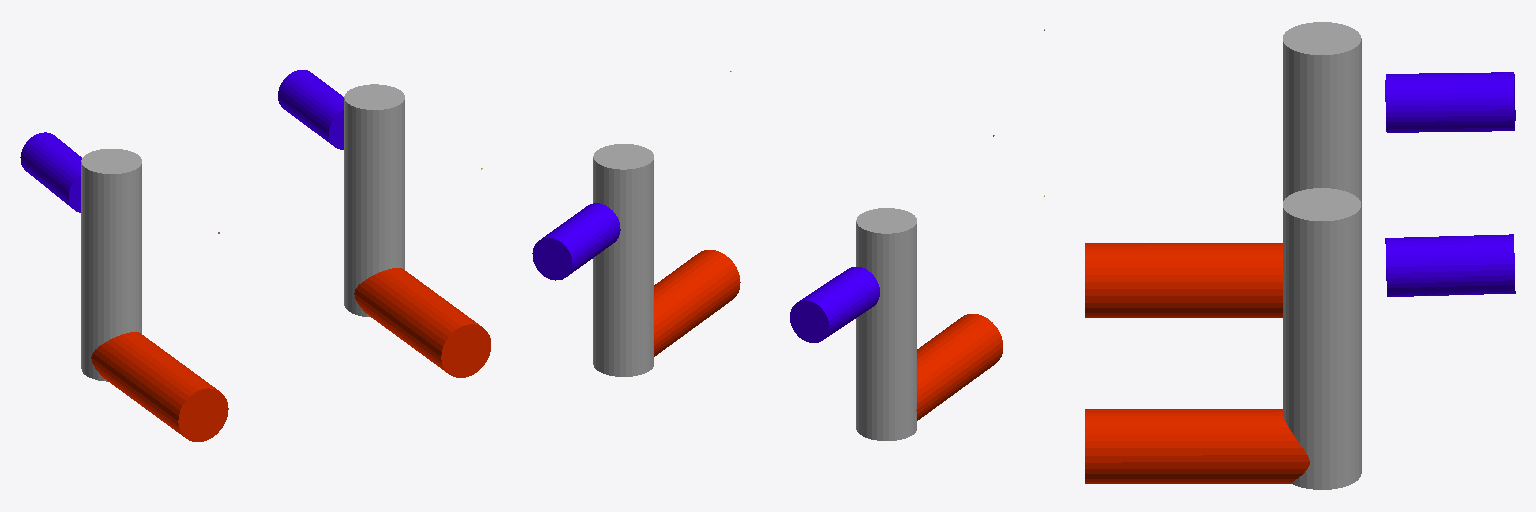
robot.urdf — humanoid:
<?xml version="1.0"?>
<robot xmlns:xacro="http://www.ros.org/wiki/xacro" name="humanoid">

    <!-- MATERIALS -->
    <material name="grey">
        <color rgba="0.7 0.7 0.7 1"/>
    </material>

    <material name="purple">
        <color rgba="0.3 0 1 1"/>
    </material>

    <material name="orange">
        <color rgba="0.9 0.2 0.0 1"/>
    </material>

    

    <!--word link or base link-->
    <link name="base_link"> 
        <origin xyz="0.0 0.0 0.0" rpy="0.0 0.0 0.0"/>
    </link>



    <!-- BODY -->
    <link name="body_link">
        <visual>
            <geometry>
                <mesh filename="file://[local-path]/Humanoid_UMass/Meshes/Humanoid_body.dae" scale="10 10 10"/>
            </geometry>
            <origin xyz="0 0 0" rpy="0 0 0"/>
        </visual>
    </link>

    <joint name="base_body_joint" type="fixed">
        <parent link="base_link"/>
        <child link="body_link"/>
        <origin xyz="0.0 0.0 0.0" rpy="0.0 0.0 0.0"/>
    </joint>



    <!-- RIGHT SHOULDER -->

    <link name="right_shoulder_link">
        <visual>
            <geometry>
                <cylinder radius="0.3" length="1.3"/>
            </geometry> 
            <material name="purple"/>
            <origin xyz="0.316 -0.2 -0.223" rpy="1.6 -0.641 0"/>
        </visual>
    </link>

    <joint name="body_rshoulder_joint" type="continuous">
        <axis xyz="-2.2 0 -1.6"/>
        <parent link="body_link"/>
        <child link="right_shoulder_link"/>
        <origin xyz="1.63905504 0 1.98591568" rpy="0 0 0"/>
    </joint>




    <!-- LEFT SHOULDER -->
    <link name="left_shoulder_link">
        <visual>
            <geometry>
                <cylinder radius="0.3" length="1.3"/>
            </geometry> 
            <material name="purple"/>
            <origin xyz="-0.316 -0.2 -0.223" rpy="1.6 0.641 0"/>
        </visual>
    </link>

    <joint name="body_lshoulder_joint" type="continuous">
        <axis xyz="-2.2 0 1.6"/>
        <parent link="body_link"/>
        <child link="left_shoulder_link"/>
        <origin xyz="-1.63905504 0 1.98591568" rpy="0.0 0.0 0.0"/>
    </joint>



    <!-- RIGHT UPPER ARM-->
    <link name="right_upper_arm_link">
        <visual>
            <geometry>
                <cylinder radius="0.4" length="3"/>
            </geometry>
            <material name="grey"/>
            <origin xyz="0.0 0.0 -0.8" rpy="0.0 0.0 0.0"/>
        </visual>
    </link>

    <joint name="r_uarm_shoulder_joint" type="revolute">
        <axis xyz="0.0 1 0.0"/>
        <limit lower="0" upper="-1.57" effort="100.0" velocity="10.0"/>
        <parent link="right_shoulder_link"/>
        <child link="right_upper_arm_link"/>
        <origin xyz="0.35 -1.5 -0.225 " rpy="0.0 0.0 0.0"/>
    </joint>



    <!-- LEFT UPPER ARM-->
    <link name="left_upper_arm_link">
        <visual>
            <geometry>
                <cylinder radius="0.4" length="3"/>
            </geometry>
            <material name="grey"/>
            <origin xyz="0.0 0.0 -0.8" rpy="0.0 0.0 0.0"/>
        </visual>
    </link>

    <joint name="l_uarm_shoulder_joint" type="revolute">
        <axis xyz="0.0 1 0.0"/>
        <limit lower="0" upper="1.57" effort="100.0" velocity="10.0"/>
        <parent link="left_shoulder_link"/>
        <child link="left_upper_arm_link"/>
        <origin xyz="-0.35 -1.5 -0.225 " rpy="0.0 0.0 0.0"/>
    </joint>



    <!-- RIGHT FOREARM -->
    <link name="right_forearm_link">
        <visual>
            <geometry>
                <cylinder radius="0.38" length="2.4"/>
            </geometry>
            <material name="orange"/>
            <origin xyz="0.0 0 -1.2" rpy="0.0 0.0 0.0"/>
        </visual>
    </link>

    <link name="right_forearm_pitch_link">
        <visual>
            <geometry>
                <cylinder radius="0.01" length="0.01"/>
            </geometry>
            <origin xyz="0.0 0.0 -1.2" rpy="0.0 0.0 0.0"/>
        </visual>
    </link>

    <joint name="r_forearm_uarm_joint_pitch" type="revolute">
        <axis xyz="1 0.0 0.0"/>
        <limit lower="-1.2" upper="1.57" effort="100.0" velocity="10.0"/>
        <parent link="right_upper_arm_link"/>
        <child link="right_forearm_pitch_link"/>
        <origin xyz="0.0 0 -2.0" rpy="-1.57 0.0 0.0"/>
    </joint>

    <joint name="r_forearm_uarm_joint_roll" type="continuous">
        <axis xyz="0.0 0 1"/>
        <parent link="right_forearm_pitch_link"/>
        <child link="right_forearm_link"/>
        <origin xyz="0.0 0 0" rpy="0 0.0 0.0"/>
    </joint>



    <!-- LEFT FOREARM -->
    <link name="left_forearm_link">
        <visual>
            <geometry>
                <cylinder radius="0.38" length="2.4"/>
            </geometry>
            <material name="orange"/>
            <origin xyz="0.0 0 -1.2" rpy="0.0 0.0 0.0"/>
        </visual>
    </link>

    <link name="left_forearm_pitch_link">
        <visual>
            <geometry>
                <cylinder radius="0.01" length="0.01"/>
            </geometry>
            <origin xyz="0.0 0.0 -1.2" rpy="0.0 0.0 0.0"/>
        </visual>
    </link>

    <joint name="l_forearm_uarm_joint_pitch" type="revolute">
        <axis xyz="1 0.0 0.0"/>
        <limit lower="-1.2" upper="1.57" effort="100.0" velocity="10.0"/>
        <parent link="left_upper_arm_link"/>
        <child link="left_forearm_pitch_link"/>
        <origin xyz="0.0 0 -2.0" rpy="-1.57 0.0 0.0"/>
    </joint>

    <joint name="l_forearm_uarm_joint_roll" type="continuous">
        <axis xyz="0.0 0 1"/>
        <parent link="left_forearm_pitch_link"/>
        <child link="left_forearm_link"/>
        <origin xyz="0.0 0 0" rpy="0 0.0 0.0"/>
    </joint>



    <!-- RIGHT WRIST -->
    <link name="right_gripper_fingers_link">
        <visual>
            <geometry>
                <mesh filename="file://[local-path]/Humanoid_UMass/Meshes/gripper_fingers.dae" scale="10 10 10"/>
            </geometry>
            <origin xyz="0.0 0.0 0.2" rpy="0.0 0.0 0.0"/>
        </visual>
    </link>

    <link name="right_gripper_fingers_pitch_link">
        <visual>
            <geometry>
                <cylinder radius="0.01" length="0.01"/>
            </geometry>
            <origin xyz="0.0 0.0 -2.8" rpy="-1.57 0.0 0.0"/>
        </visual>
    </link>

    <joint name="r_gripper_forearm_pitch_joint" type="revolute">
        <axis xyz="1 0.0 0.0"/>
        <limit lower="-1.57" upper="1.57" effort="100.0" velocity="10.0"/>
        <parent link="right_forearm_link"/>
        <child link="right_gripper_fingers_pitch_link"/>
        <origin xyz="0 0.0 -2.8" rpy="-1.57 0.0 0.0"/>
    </joint>

    <joint name="r_gripper_forearm_roll_joint" type="revolute">
        <axis xyz="0.0 0 1.0"/>
        <limit lower="-1.57" upper="1.57" effort="100.0" velocity="10.0"/>
        <parent link="right_gripper_fingers_pitch_link"/>
        <child link="right_gripper_fingers_link"/>
        
    </joint>



    <!-- RIGHT GRIPPER -->
    <link name="right_gripper_thumb_link">
        <visual>
            <geometry>
                <mesh filename="file://[local-path]/Humanoid_UMass/Meshes/gripper_thumb.dae" scale="10 10 10"/>
            </geometry>
            <origin xyz="0.0 0.0 0.0" rpy="0.0 0.0 0.0"/>
        </visual>
    </link>

    <joint name="r_gripper_thumb_finger_joint" type="revolute">
        <axis xyz="0 0 1"/>
        <limit lower="-1.57" upper="0.52" effort="100.0" velocity="10.0"/>
        <parent link="right_gripper_fingers_link"/>
        <child link="right_gripper_thumb_link"/>
        <origin xyz="0.1 0 0.1" rpy="0.0 0.0 0.0"/>
    </joint>

    <!-- LEFT WRIST -->
    <link name="left_gripper_fingers_link">
        <visual>
            <geometry>
                <mesh filename="file://[local-path]/Humanoid_UMass/Meshes/gripper_fingers.dae" scale="10 10 10"/>
            </geometry>
            <origin xyz="0.0 0.0 0.2" rpy="0.0 0.0 0.0"/>
        </visual>
    </link>

    <link name="left_gripper_fingers_pitch_link">
        <visual>
            <geometry>
                <cylinder radius="0.01" length="0.01"/>
            </geometry>
            <origin xyz="0.0 0.0 -2.8" rpy="-1.57 0.0 0.0"/>
        </visual>
    </link>

    <joint name="l_gripper_forearm_pitch_joint" type="revolute">
        <axis xyz="1 0.0 0.0"/>
        <limit lower="-1.57" upper="1.57" effort="100.0" velocity="10.0"/>
        <parent link="left_forearm_link"/>
        <child link="left_gripper_fingers_pitch_link"/>
        <origin xyz="0 0.0 -2.8" rpy="-1.57 0.0 0.0"/>
    </joint>

    <joint name="l_gripper_forearm_roll_joint" type="revolute">
        <axis xyz="0.0 0 1.0"/>
        <limit lower="-1.57" upper="1.57" effort="100.0" velocity="10.0"/>
        <parent link="left_gripper_fingers_pitch_link"/>
        <child link="left_gripper_fingers_link"/>
        
    </joint>



    <!-- LEFT GRIPPER -->
    <link name="left_gripper_thumb_link">
        <visual>
            <geometry>
                <mesh filename="file://[local-path]/Humanoid_UMass/Meshes/gripper_thumb.dae" scale="10 10 10"/>
            </geometry>
            <origin xyz="0.0 0.0 0.0" rpy="0.0 0.0 0.0"/>
        </visual>
    </link>

    <joint name="l_gripper_thumb_finger_joint" type="revolute">
        <axis xyz="0 0 1"/>
        <limit lower="-1.57" upper="0.52" effort="100.0" velocity="10.0"/>
        <parent link="left_gripper_fingers_link"/>
        <child link="left_gripper_thumb_link"/>
        <origin xyz="0.1 0 0.1" rpy="0.0 0.0 0.0"/>
    </joint>

</robot>

--- Render facts (derived) ---
The picture shows the robot from 3 angles, left to right: view 1: azimuth 30°, elevation 25°; view 2: azimuth 150°, elevation 25°; view 3: azimuth 270°, elevation 25°; orthographic projection.
Robot: humanoid — 16 links, 15 joints (10 revolute, 4 continuous, 1 fixed); root link base_link; default pose: all joints at 0.
Visible links, largest first — view 1: right_upper_arm_link, left_upper_arm_link, left_forearm_link, right_forearm_link, right_shoulder_link, left_shoulder_link; view 2: left_upper_arm_link, right_upper_arm_link, right_forearm_link, left_forearm_link, left_shoulder_link, right_shoulder_link; view 3: right_upper_arm_link, right_forearm_link, left_forearm_link, left_upper_arm_link, left_shoulder_link, right_shoulder_link.
Link boxes in pixels (left/top/right/bottom): right_upper_arm_link: left=344, top=84, right=404, bottom=316; left_upper_arm_link: left=81, top=149, right=141, bottom=381; left_forearm_link: left=91, top=332, right=228, bottom=441; right_forearm_link: left=354, top=268, right=490, bottom=377; right_shoulder_link: left=278, top=70, right=343, bottom=149; left_shoulder_link: left=20, top=132, right=81, bottom=212; left_upper_arm_link: left=856, top=208, right=916, bottom=440; right_upper_arm_link: left=593, top=144, right=653, bottom=376; right_forearm_link: left=654, top=250, right=740, bottom=356; left_forearm_link: left=916, top=314, right=1002, bottom=420; left_shoulder_link: left=790, top=267, right=879, bottom=342; right_shoulder_link: left=532, top=203, right=620, bottom=280; right_upper_arm_link: left=1283, top=188, right=1361, bottom=489; right_forearm_link: left=1085, top=409, right=1309, bottom=483; left_forearm_link: left=1085, top=243, right=1282, bottom=317; left_upper_arm_link: left=1283, top=22, right=1361, bottom=204; left_shoulder_link: left=1385, top=72, right=1515, bottom=132; right_shoulder_link: left=1385, top=234, right=1515, bottom=296.
Bounding box of the posed robot: 4.78 × 4.77 × 3.19 m (x, y, z).
Geometry: only primitive shapes (box / cylinder / sphere) drawn; not drawn: 5 mesh visuals (reference in a form the renderer does not follow).